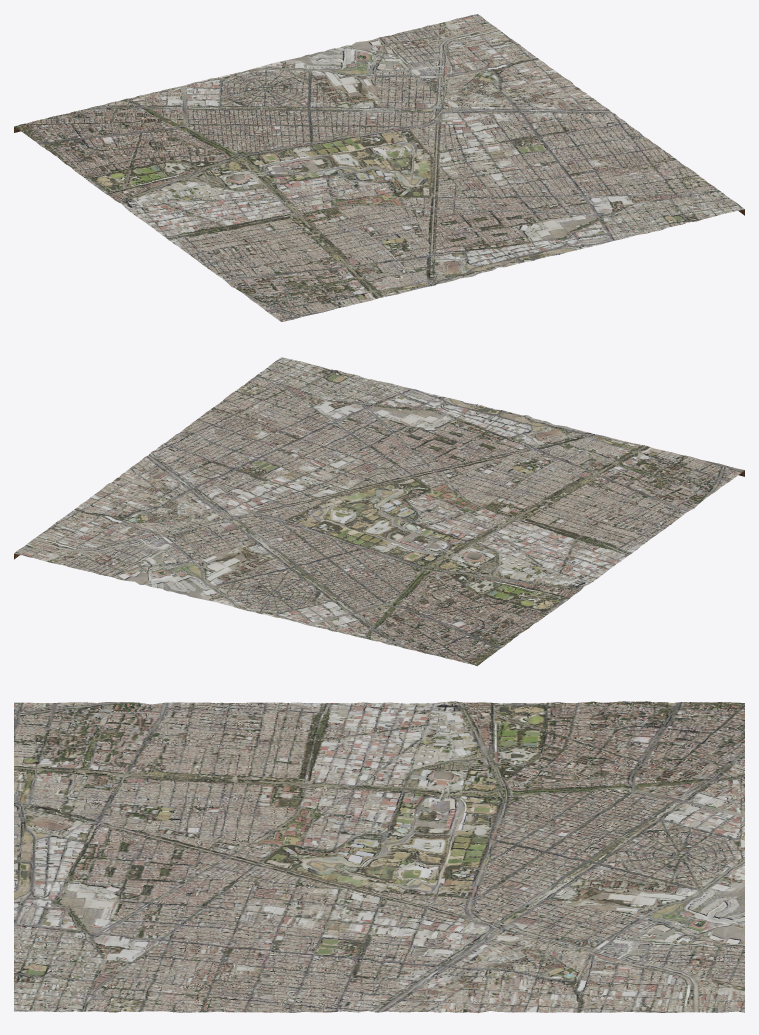
Rendered from 20_mexican_gp.glb.
3 views of the same model, one above another, from view 1: azimuth 30°, elevation 25°; view 2: azimuth 150°, elevation 25°; view 3: azimuth 270°, elevation 25° (orthographic). The views are drawn at different scales.
Visible parts, largest first — view 1: tinMesh; view 2: tinMesh; view 3: tinMesh.
Part boxes in pixels (x1,y1,x2,y2): tinMesh: (14,14,744,321); tinMesh: (14,357,744,666); tinMesh: (14,701,744,1013).
Bounding box in the file's own units: 5308 × 115 × 5307.
Materials: 2 (2 with a texture image).
